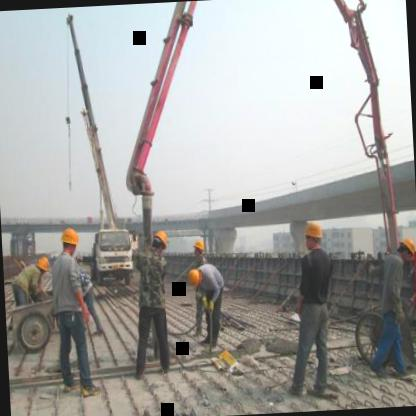helmet: (300, 217, 326, 252), (58, 225, 81, 257), (397, 235, 416, 262), (152, 229, 170, 254), (186, 264, 204, 288), (36, 256, 52, 278), (192, 238, 208, 258)
